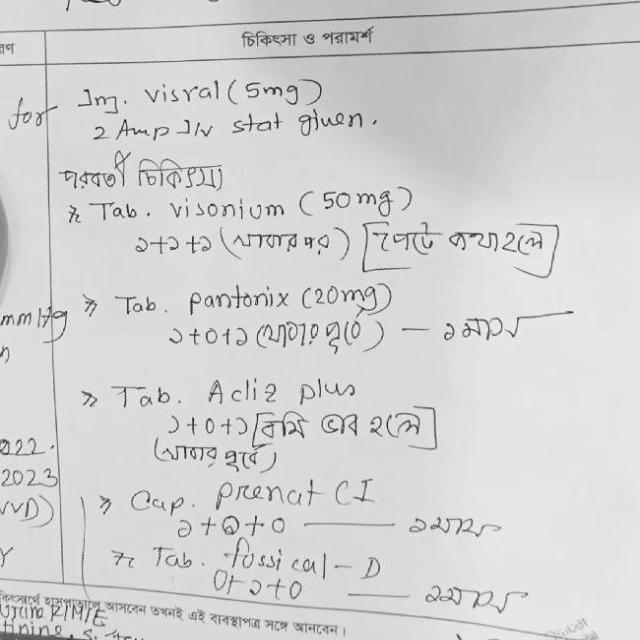medicine: (215, 533, 394, 586), (208, 476, 383, 515), (202, 372, 366, 409), (182, 280, 296, 318), (162, 195, 292, 224), (139, 76, 226, 112)
